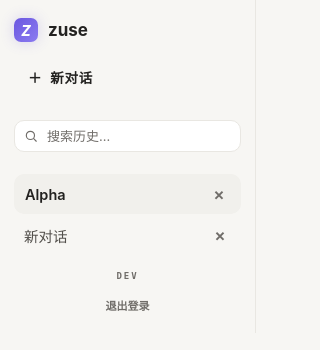
Sidebar › typing enters results mode and renders the hit snippet
Type "needle" into the field with placeholder "搜索历史…".
click(128, 136); type("needle")  # box [14, 120, 241, 152]
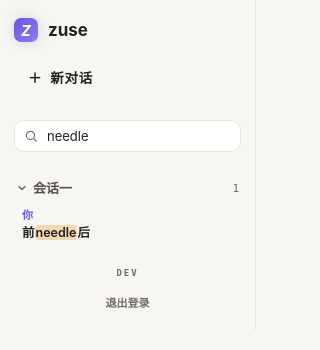
Result: the text "会话一" is shown at [33, 180, 72, 196]
Result: the text "needle" is shown at [34, 225, 77, 240]
Result: the text "Alpha" is gone
